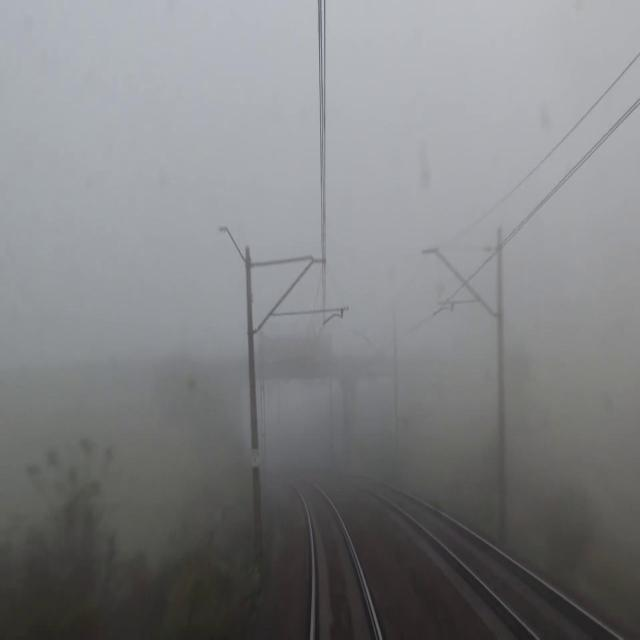rail-track: (387, 492, 610, 639), (294, 477, 376, 639)
